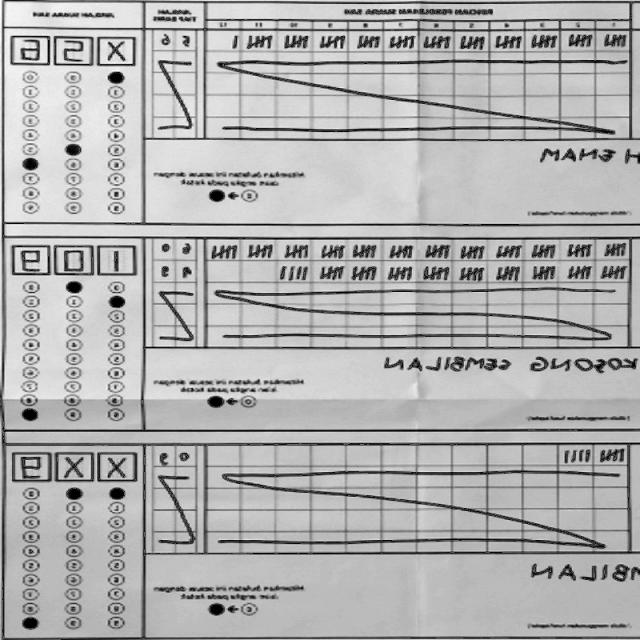Suara: (4, 30, 142, 70), (9, 238, 146, 278), (5, 445, 142, 485)
